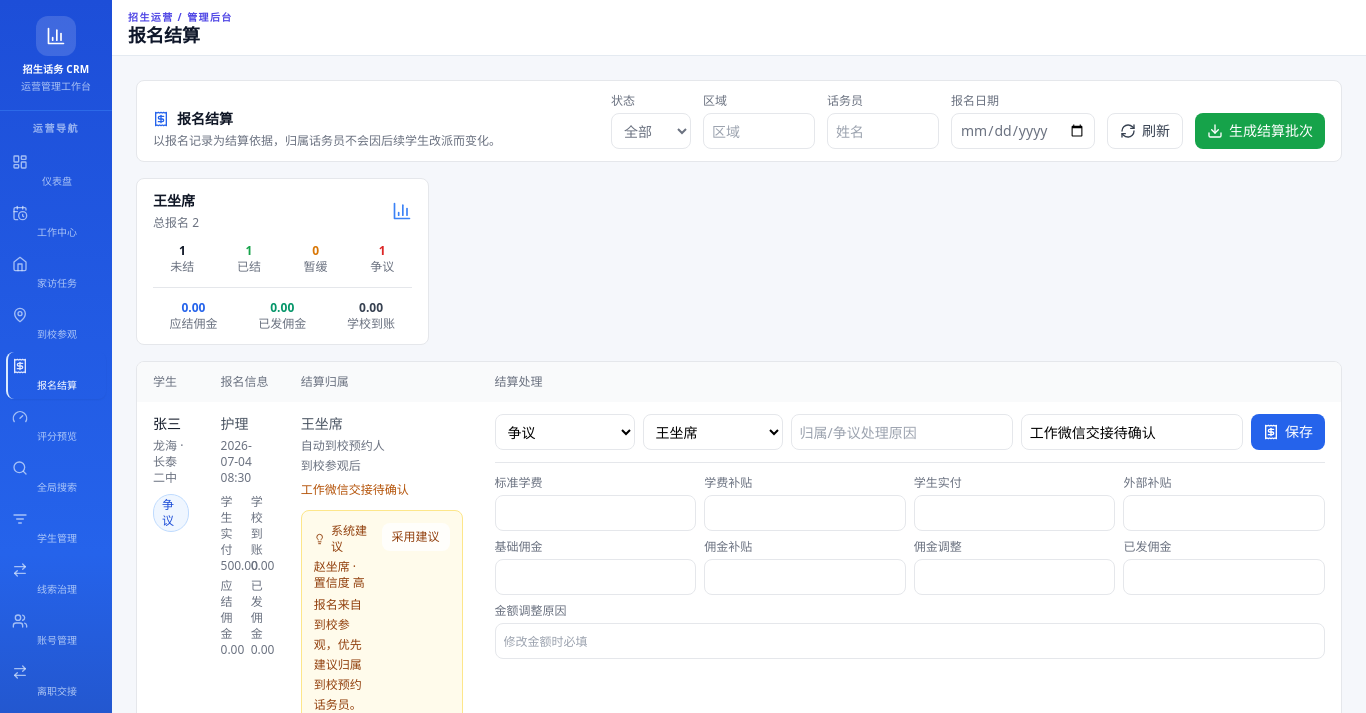
Admissions workflow admin pages › applies the settlement attribution recommendation into the edit form
Expected: the text "系统建议" is shown, [314, 523, 370, 555]
Click the button "采用建议" at [416, 537], box [382, 523, 450, 551]
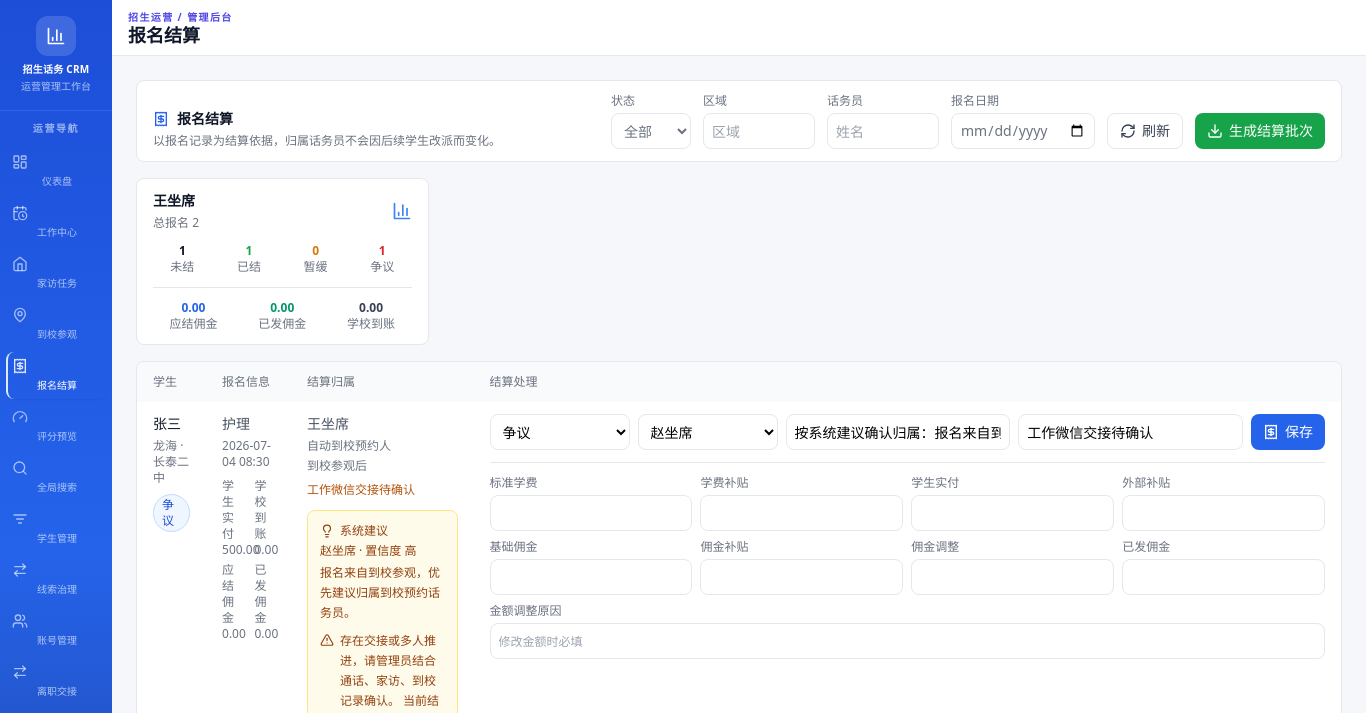
Expected: the dropdown named "归属话务员 301" shows "赵坐席", [638, 414, 778, 450]
